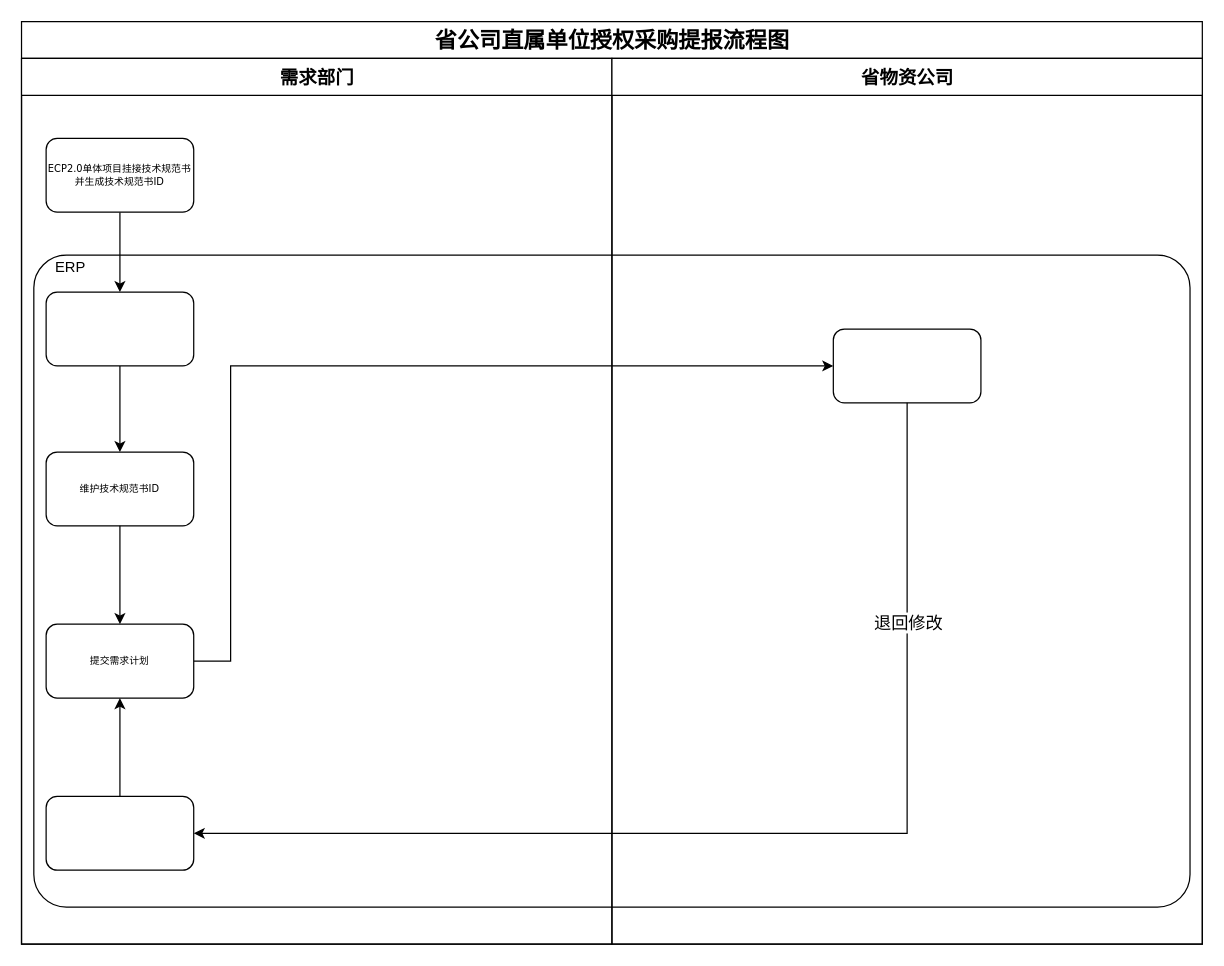
Some shapes in this 1224 by 966 pixel diagram are drawn without their labels. The shapes that lost their labels are listed below. From the top down, each one's centre as x and y in pixels, then its label:
At point (119, 328): "创建采购申请 并生成采购申请号".
At point (906, 365): "省物资公司审核".
At point (119, 832): "修改相关内容".
